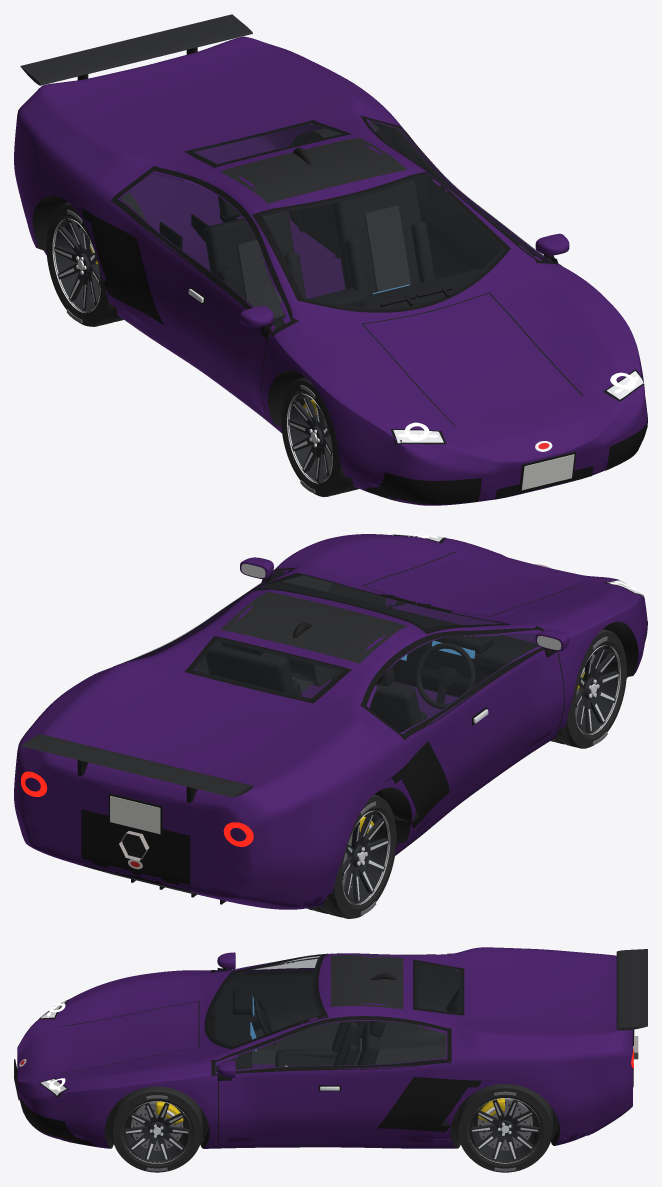
File: temerario.glb
The picture shows the model from 3 angles, top to bottom: view 1: azimuth 30°, elevation 25°; view 2: azimuth 150°, elevation 25°; view 3: azimuth 270°, elevation 25°; orthographic projection. The views are drawn at different scales.
Visible parts, largest first — view 1: Body, Wheel_RR, Wheel_FR; view 2: Body, Wheel_RR, Wheel_FR; view 3: Body, Wheel_RL, Wheel_FL.
Part boxes in pixels (box(x1,y1,x2,y2)): Body: box(14, 14, 647, 505); Wheel_RR: box(46, 202, 123, 326); Wheel_FR: box(281, 377, 358, 496); Body: box(14, 534, 647, 909); Wheel_RR: box(307, 794, 396, 918); Wheel_FR: box(550, 629, 626, 748); Body: box(14, 947, 647, 1148); Wheel_RL: box(457, 1084, 552, 1172); Wheel_FL: box(111, 1086, 202, 1172).
Bounding box in the file's own units: 2.14 × 1.25 × 4.84.
